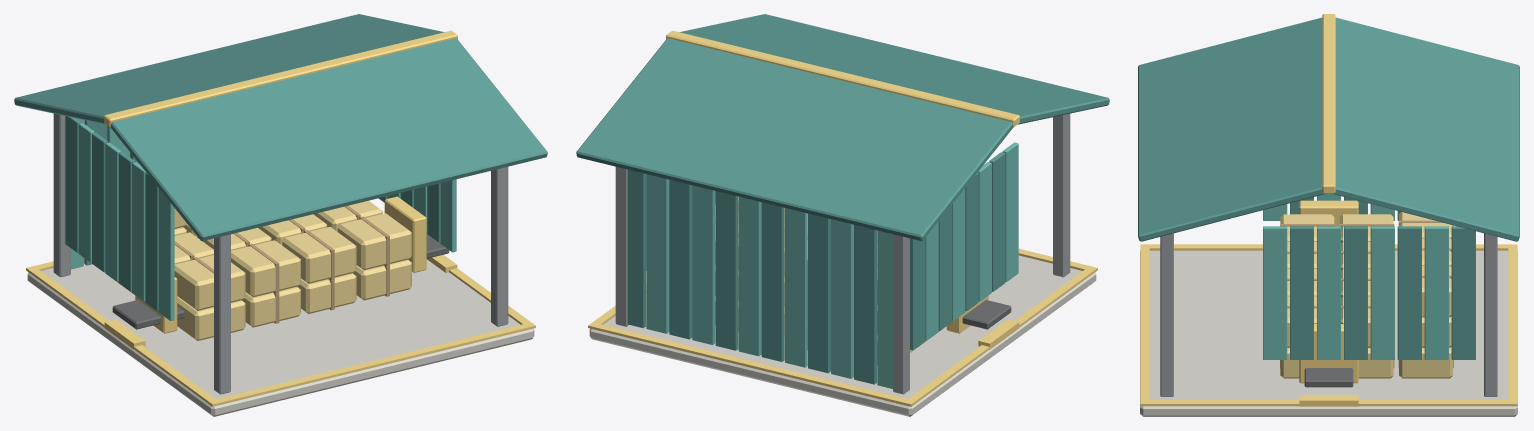
Rendered from CoveredStorage.fbx.
The picture shows the model from 3 angles, left to right: view 1: azimuth 30°, elevation 25°; view 2: azimuth 150°, elevation 25°; view 3: azimuth 270°, elevation 25°; orthographic projection.
Visible parts, largest first — view 1: ST_RoofB, ST_Base, ST_RoofA, ST_Ridge, ST_Post3, ST_Bale26, ST_Bale28, ST_Post1, ST_Bale24, ST_EdgeS, ST_Post2, ST_Bale22 (+24 smaller); view 2: ST_RoofA, ST_RoofB, ST_Base, ST_BackRib11, ST_BackRib6, ST_BackRib7, ST_BackRib9, ST_BackRib10, ST_BackRib8, ST_BackRib2, ST_BackRib3, ST_BackRib4 (+19 smaller); view 3: ST_RoofA, ST_RoofB, ST_Base, ST_ERib1, ST_ERib5, ST_ERib6, ST_ERib7, ST_ERib8, ST_ERib2, ST_ERib3, ST_ERib4, ST_Ridge (+16 smaller).
Boxes of the visible parts, box(x1,y1,x2,y2) form: ST_RoofB: box(110, 38, 547, 241); ST_Base: box(27, 259, 534, 416); ST_RoofA: box(14, 14, 444, 124); ST_Ridge: box(104, 30, 457, 127); ST_Post3: box(491, 166, 508, 326); ST_Bale26: box(282, 227, 356, 283); ST_Bale28: box(337, 213, 411, 270); ST_Post1: box(214, 234, 230, 394); ST_Bale24: box(231, 240, 300, 297); ST_EdgeS: box(208, 322, 535, 406); ST_Post2: box(53, 113, 70, 277); ST_Bale22: box(174, 255, 245, 310); ST_RoofA: box(576, 38, 1013, 241); ST_RoofB: box(679, 14, 1109, 124); ST_Base: box(589, 214, 1096, 416); ST_BackRib11: box(646, 174, 669, 333); ST_BackRib6: box(761, 202, 784, 361); ST_BackRib7: box(738, 197, 761, 356); ST_BackRib9: box(692, 185, 715, 344); ST_BackRib10: box(669, 180, 692, 339); ST_BackRib8: box(715, 191, 738, 350); ST_BackRib2: box(854, 225, 876, 384); ST_BackRib3: box(831, 219, 853, 378); ST_BackRib4: box(808, 213, 830, 373); ST_RoofA: box(1332, 17, 1519, 241); ST_RoofB: box(1138, 17, 1325, 241); ST_Base: box(1140, 250, 1517, 416); ST_ERib1: box(1263, 226, 1287, 359); ST_ERib5: box(1370, 226, 1394, 359); ST_ERib6: box(1397, 226, 1421, 359); ST_ERib7: box(1424, 226, 1448, 359); ST_ERib8: box(1451, 226, 1475, 359); ST_ERib2: box(1290, 226, 1313, 359); ST_ERib3: box(1317, 226, 1340, 359); ST_ERib4: box(1344, 226, 1367, 359); ST_Ridge: box(1322, 14, 1335, 193).
Bounding box in the file's own units: 15.1 × 9.78 × 14.16.
